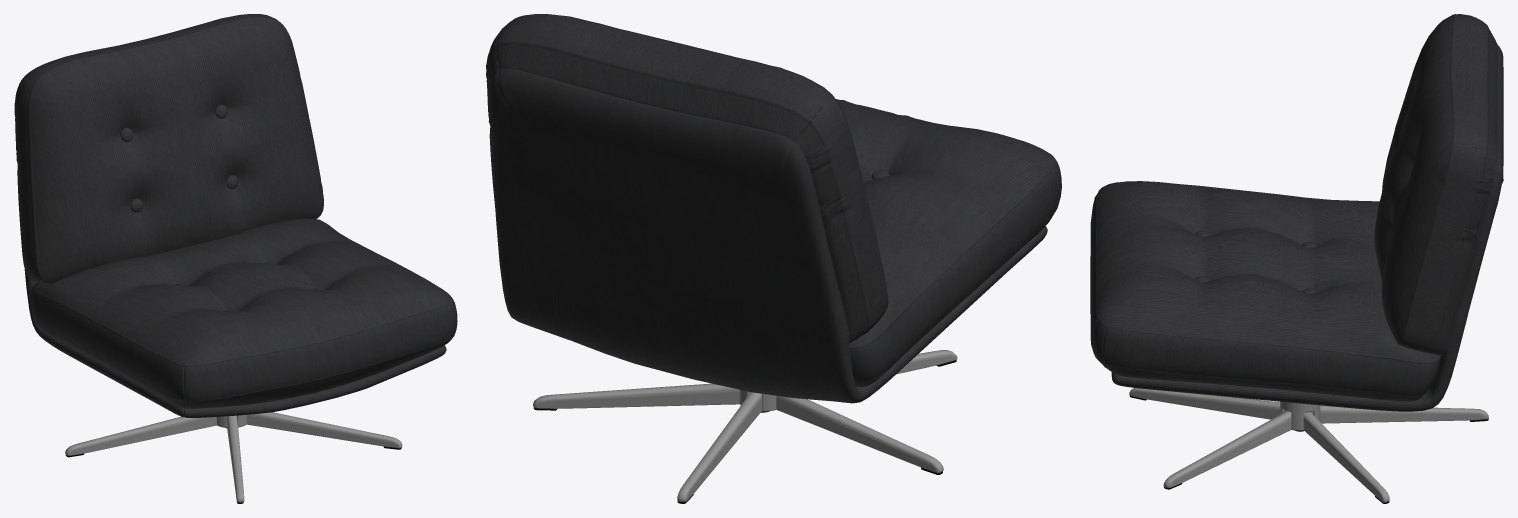
File: 01 - DYVLINGE Swivel easy chair - Kelinge black.glb
3 renders of one model, left to right at view 1: azimuth 30°, elevation 25°; view 2: azimuth 150°, elevation 25°; view 3: azimuth 270°, elevation 25°, orthographic. The views are drawn at different scales.
Parts seen in each view (by area): view 1: G-00555090-DYVLINGE; view 2: G-00555090-DYVLINGE; view 3: G-00555090-DYVLINGE.
Boxes of the visible parts, left/top/right/bottom form: G-00555090-DYVLINGE: left=14, top=14, right=457, bottom=503; G-00555090-DYVLINGE: left=486, top=14, right=1061, bottom=503; G-00555090-DYVLINGE: left=1090, top=14, right=1503, bottom=503.
Size of the model in its own units: 0.6333 by 0.6945 by 0.7137.
1 material, 1 textured.
